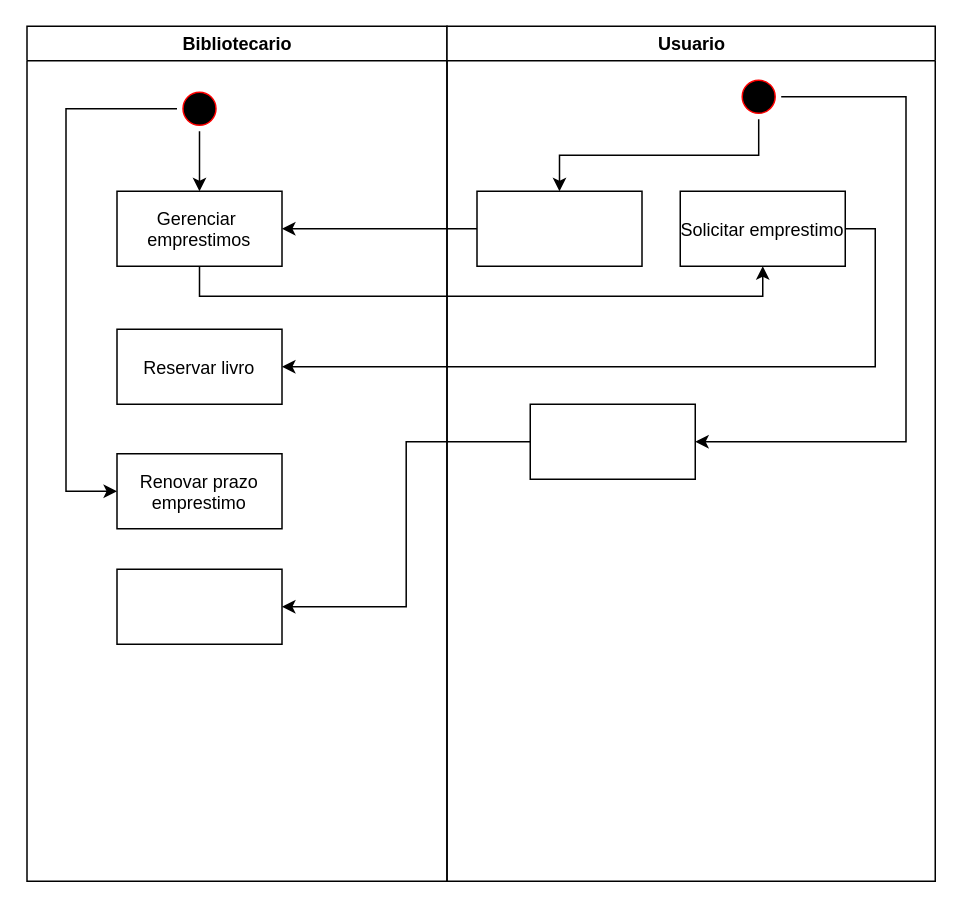
This 962x908 diagram has some shape labels left out. Here are the shapes that lost their labels. From the top down, the centre of each, then its label:
At (559,228): "Buscar livros".
At (612,441): "Devolver livro".
At (199,606): "Registrar devolução".
